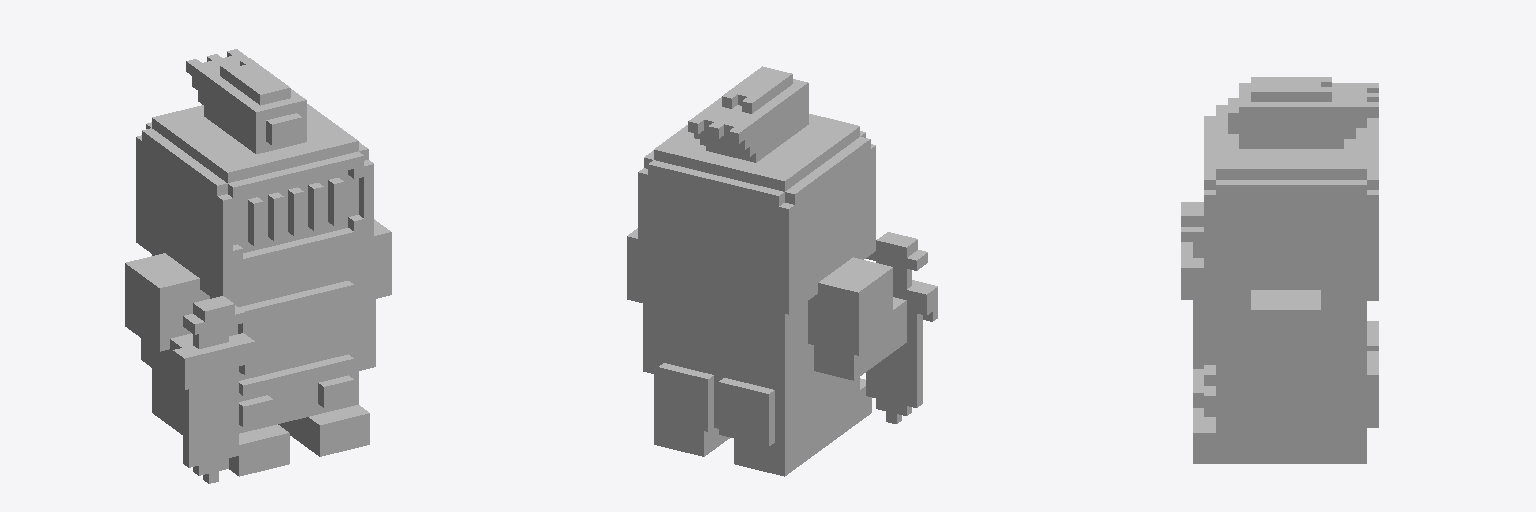
File: Package 01 Necro Dungeon-20.obj
3 views of the same model, side by side, from view 1: azimuth 30°, elevation 25°; view 2: azimuth 150°, elevation 25°; view 3: azimuth 270°, elevation 25° (orthographic).
Visible parts, largest first — view 1: object 1; view 2: object 1; view 3: object 1.
Boxes of the visible parts, <box> form: object 1: <box>125,49,391,483</box>; object 1: <box>627,66,937,476</box>; object 1: <box>1181,77,1378,463</box>.
Bounding box in the file's own units: 2.4 × 3.3 × 1.7.